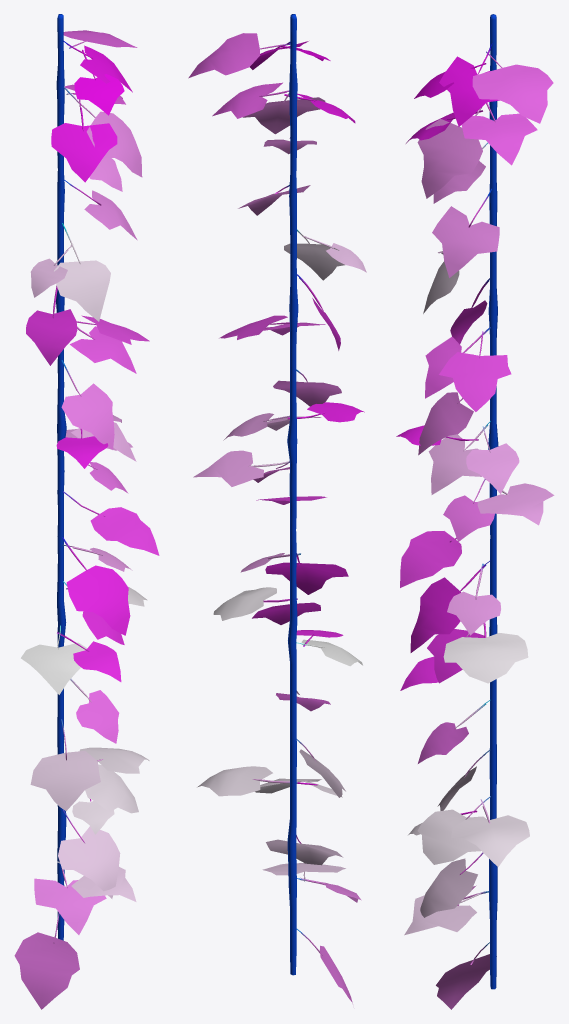
Rendered from English_Ivy_xfcnebhqx_High_xfcnebhqx_VarD_LOD1.fbx.
The picture shows the model from 3 angles, left to right: view 1: azimuth 30°, elevation 25°; view 2: azimuth 150°, elevation 25°; view 3: azimuth 270°, elevation 25°; orthographic projection. The views are drawn at different scales.
Parts seen in each view (by area): view 1: _fdvs_VarD_LOD1; view 2: _fdvs_VarD_LOD1; view 3: _fdvs_VarD_LOD1.
Boxes of the visible parts, x1,y1,x2,y2 form: _fdvs_VarD_LOD1: [14, 14, 159, 1009]; _fdvs_VarD_LOD1: [188, 14, 366, 1003]; _fdvs_VarD_LOD1: [396, 14, 554, 1009].
Size of the model in its own units: 11.52 by 76.05 by 10.81.
